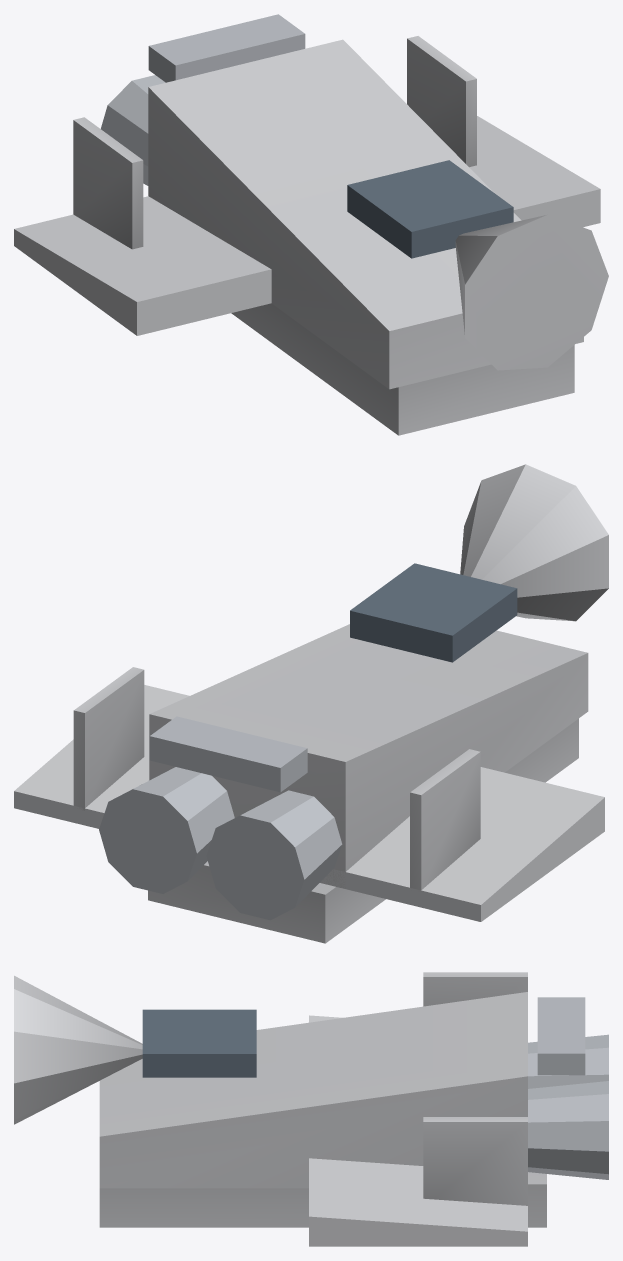
Rendered from veh_shuttle.glb.
The picture shows the model from 3 angles, top to bottom: view 1: azimuth 30°, elevation 25°; view 2: azimuth 150°, elevation 25°; view 3: azimuth 270°, elevation 25°; orthographic projection. The views are drawn at different scales.
Visible parts, largest first — view 1: veh_shuttle; view 2: veh_shuttle; view 3: veh_shuttle.
Boxes of the visible parts, left/top/right/bottom form: veh_shuttle: left=14, top=14, right=608, bottom=435; veh_shuttle: left=14, top=464, right=608, bottom=943; veh_shuttle: left=14, top=972, right=608, bottom=1246.
Size of the model in its own units: 1 by 0.4776 by 1.25.
